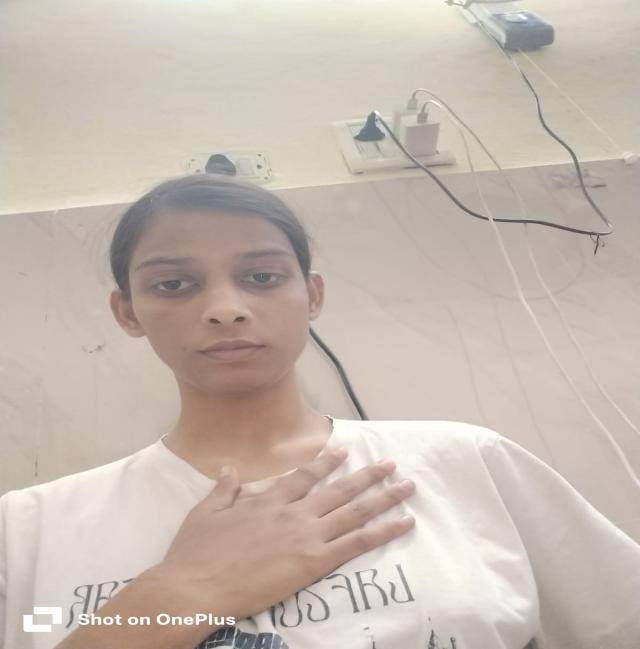Please: (141, 437, 425, 612)
